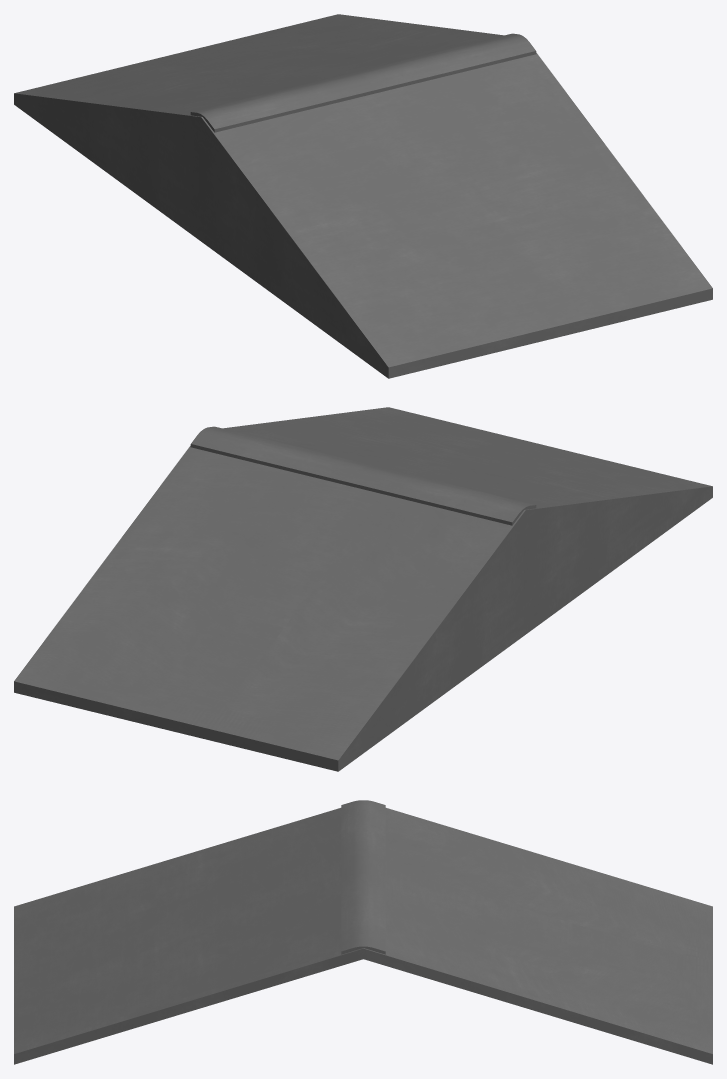
File: SM06_Building_RoofPanel_Gable_02_End_01.fbx
The picture shows the model from 3 angles, top to bottom: view 1: azimuth 30°, elevation 25°; view 2: azimuth 150°, elevation 25°; view 3: azimuth 270°, elevation 25°; orthographic projection. The views are drawn at different scales.
Parts seen in each view (by area): view 1: SM06_Building_RoofPanel_Gable_02_End_01; view 2: SM06_Building_RoofPanel_Gable_02_End_01; view 3: SM06_Building_RoofPanel_Gable_02_End_01.
Part boxes in pixels (<box>): SM06_Building_RoofPanel_Gable_02_End_01: <box>14,14,712,378</box>; SM06_Building_RoofPanel_Gable_02_End_01: <box>14,407,712,771</box>; SM06_Building_RoofPanel_Gable_02_End_01: <box>14,800,712,1064</box>.
Size of the model in its own units: 15 by 5.57 by 30.
